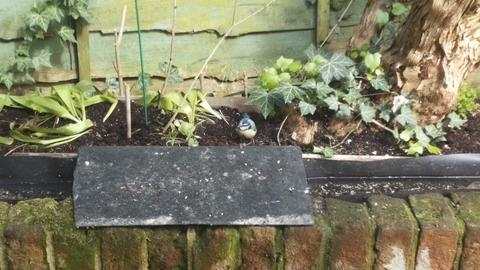blue tit: (235, 112, 257, 146)
